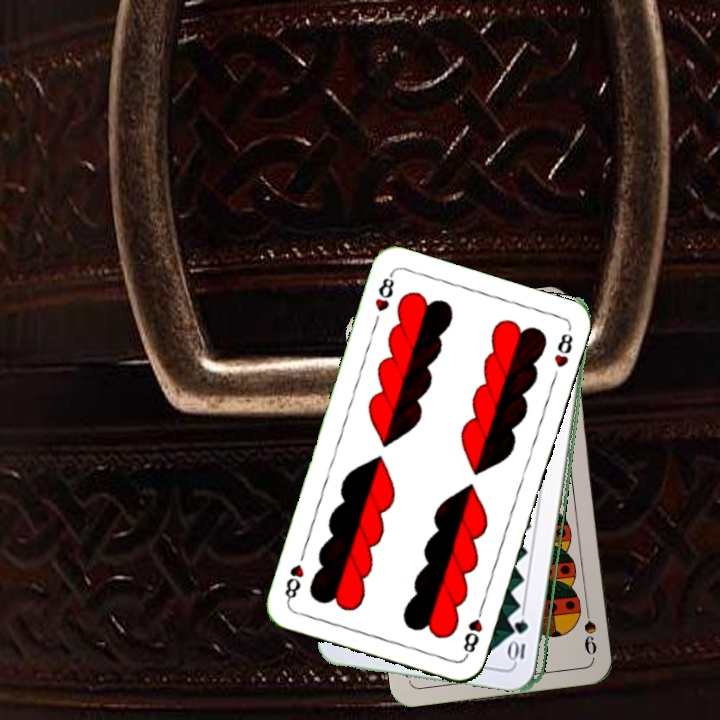G10: (509, 615, 531, 666)
H8: (459, 602, 486, 660), (371, 269, 397, 315)
S9: (580, 599, 599, 658)
